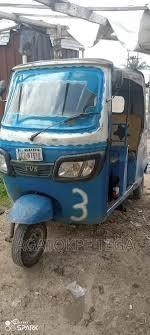keke: (4, 0, 146, 275), (1, 55, 150, 273)
